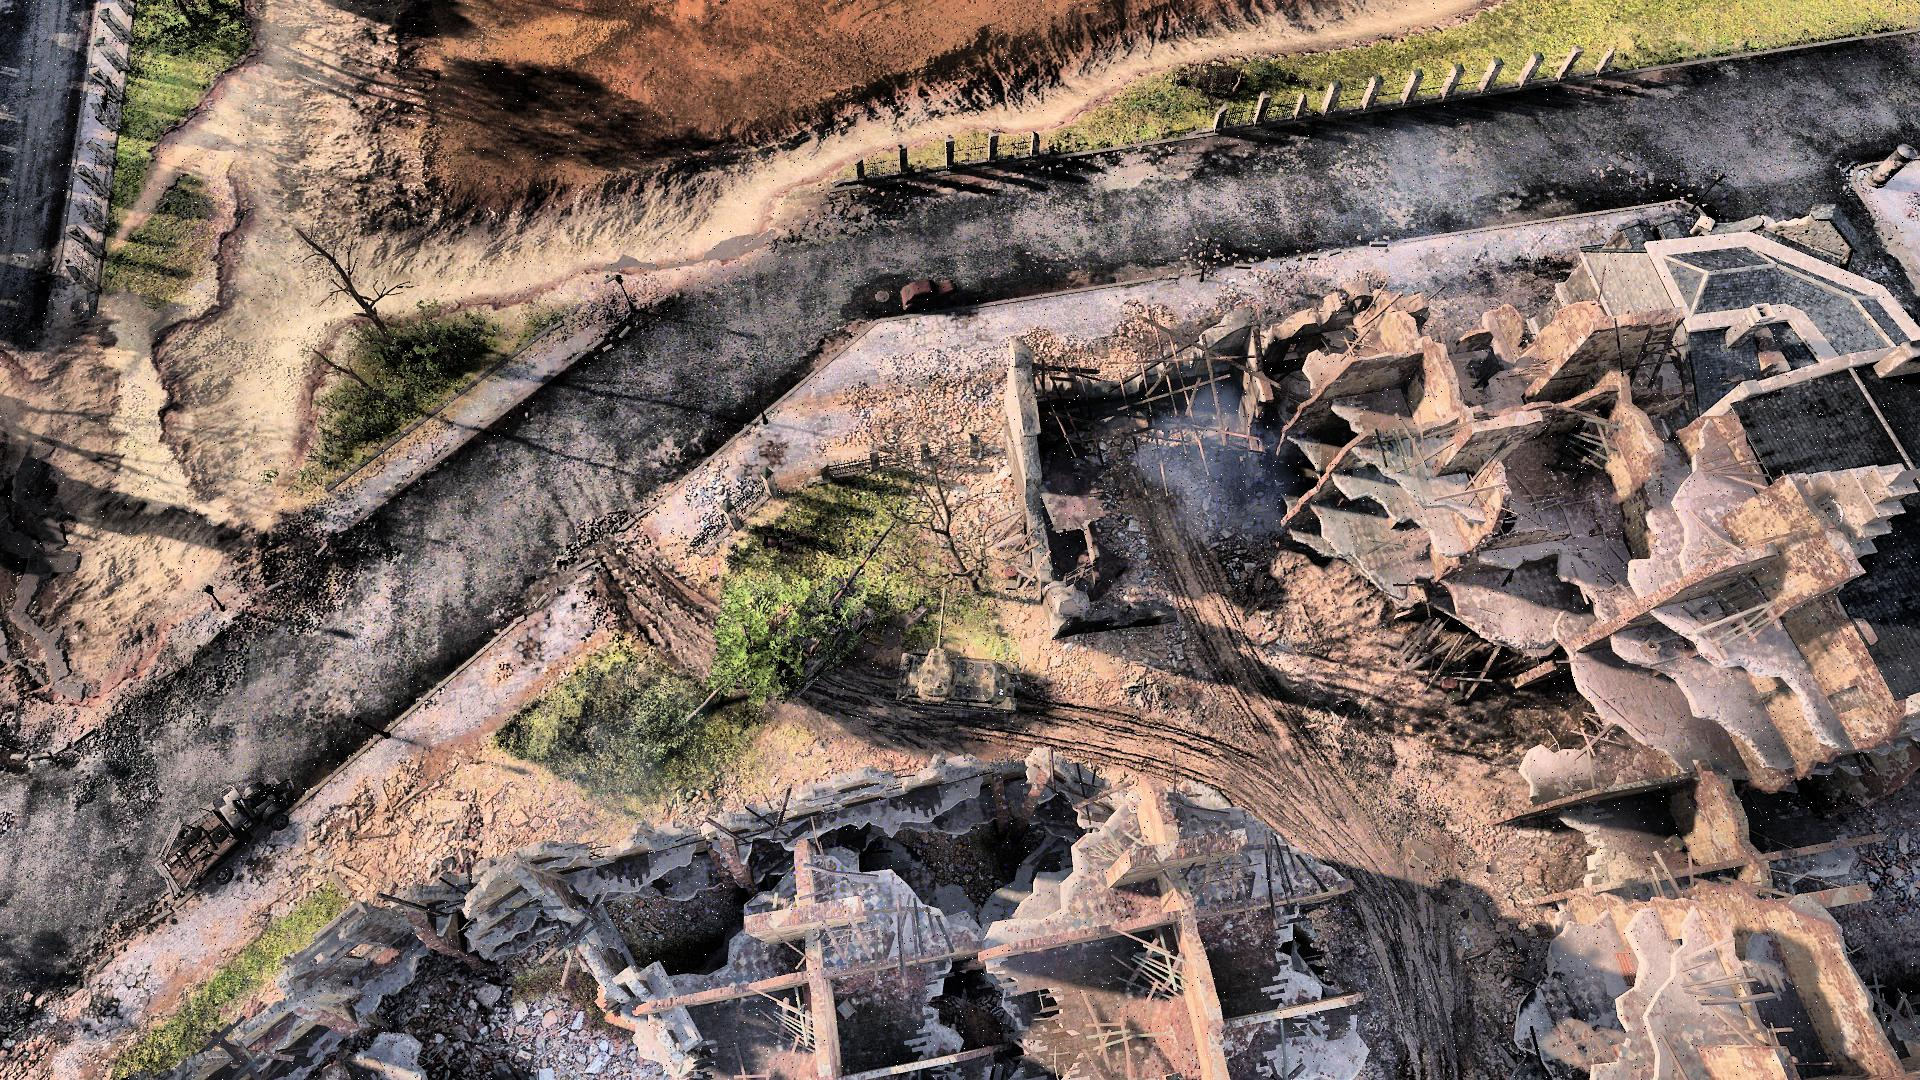military-vehicle: (893, 585, 1021, 717)
